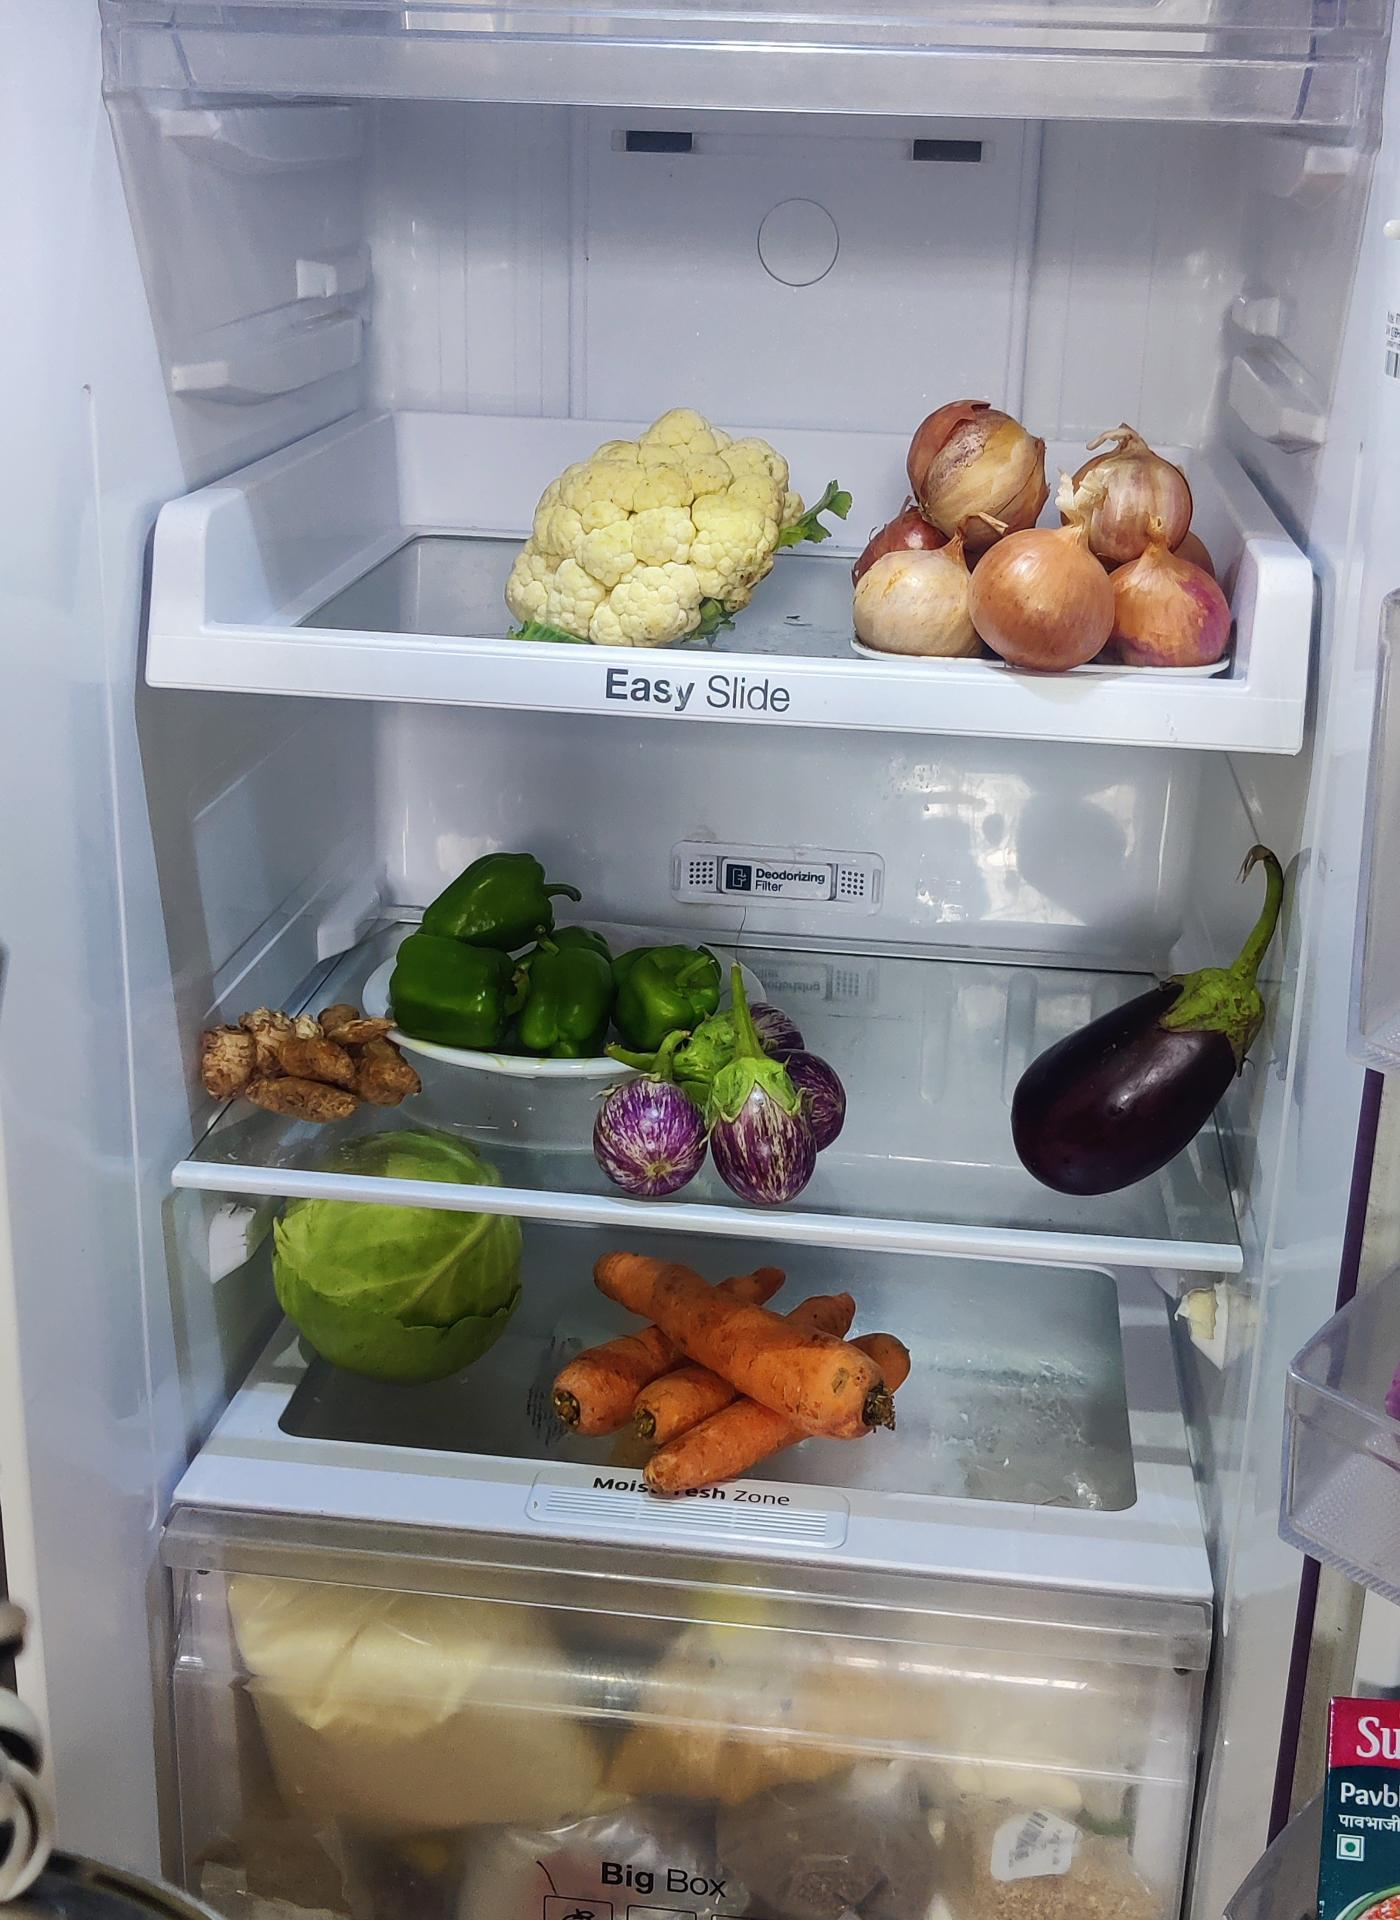cabbage: (270, 1191, 525, 1383), (613, 1009, 841, 1203)
capsicum: (383, 854, 726, 1063)
carrots: (556, 1255, 923, 1500)
cauliflower: (505, 414, 805, 653)
ginger: (194, 1000, 419, 1124)
onion: (847, 407, 1236, 681)
